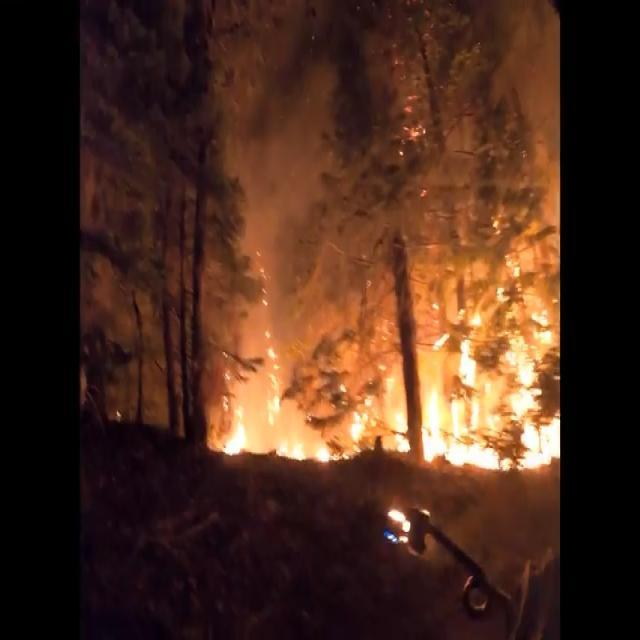Fire: (202, 228, 558, 472)
